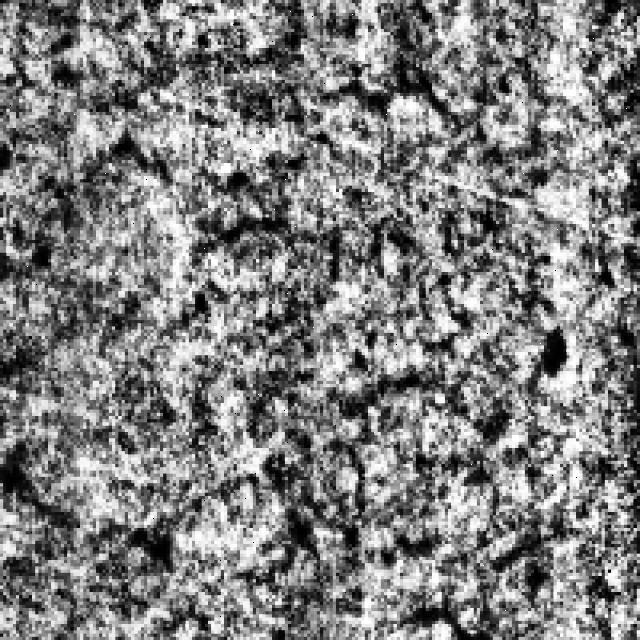Pitted_Surface: (3, 362, 515, 627), (96, 51, 531, 339)
